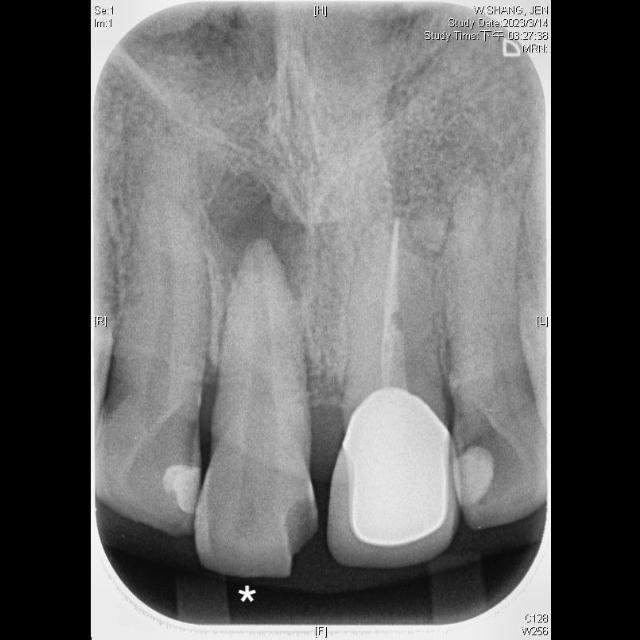test-segment: (195, 240, 316, 575)
